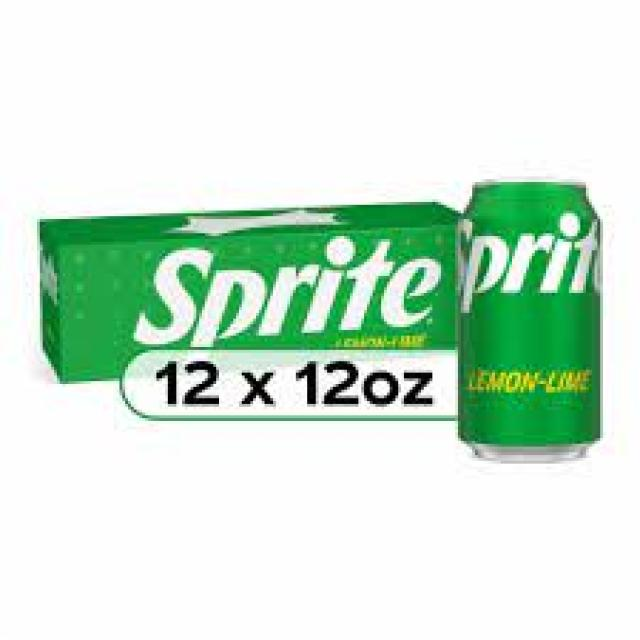Cans: (452, 165, 609, 472)
